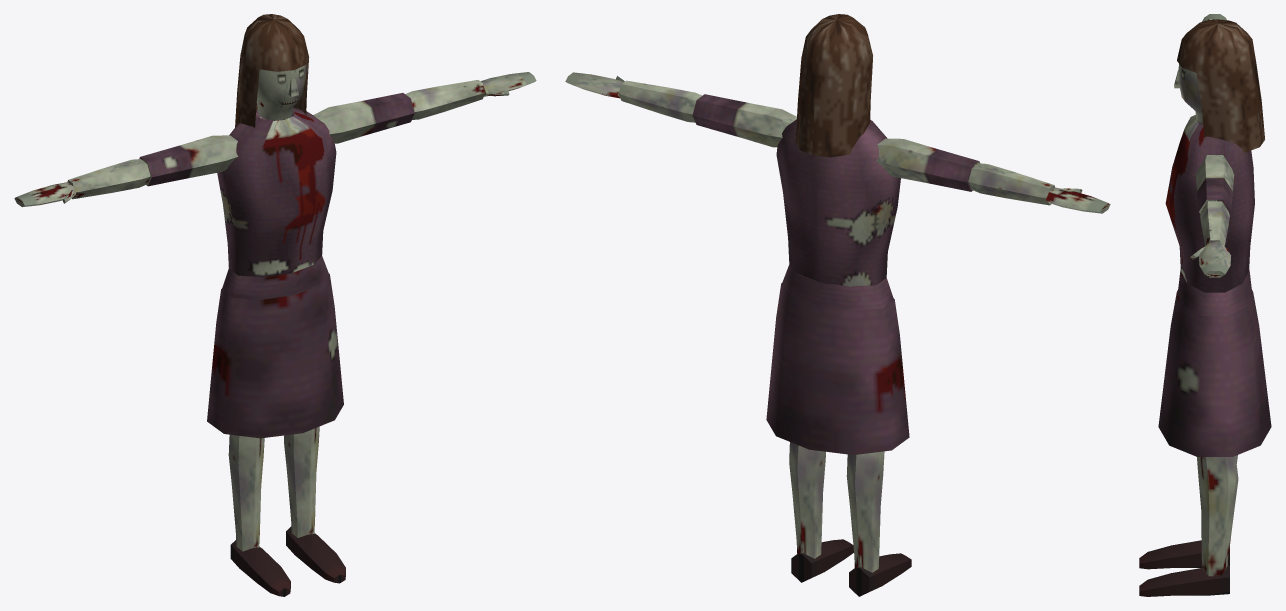
Rendered from zombie_woman.obj.
3 renders of one model, left to right at view 1: azimuth 30°, elevation 25°; view 2: azimuth 150°, elevation 25°; view 3: azimuth 270°, elevation 25°, orthographic. The views are drawn at different scales.
Visible parts, largest first — view 1: zombie_woman_mesh; view 2: zombie_woman_mesh; view 3: zombie_woman_mesh.
Boxes of the visible parts, <box> form: zombie_woman_mesh: <box>14,14,536,596</box>; zombie_woman_mesh: <box>565,14,1110,596</box>; zombie_woman_mesh: <box>1139,14,1271,596</box>.
Bounding box in the file's own units: 1.72 × 1.74 × 0.3738.
Materials: 1 (1 with a texture image).
